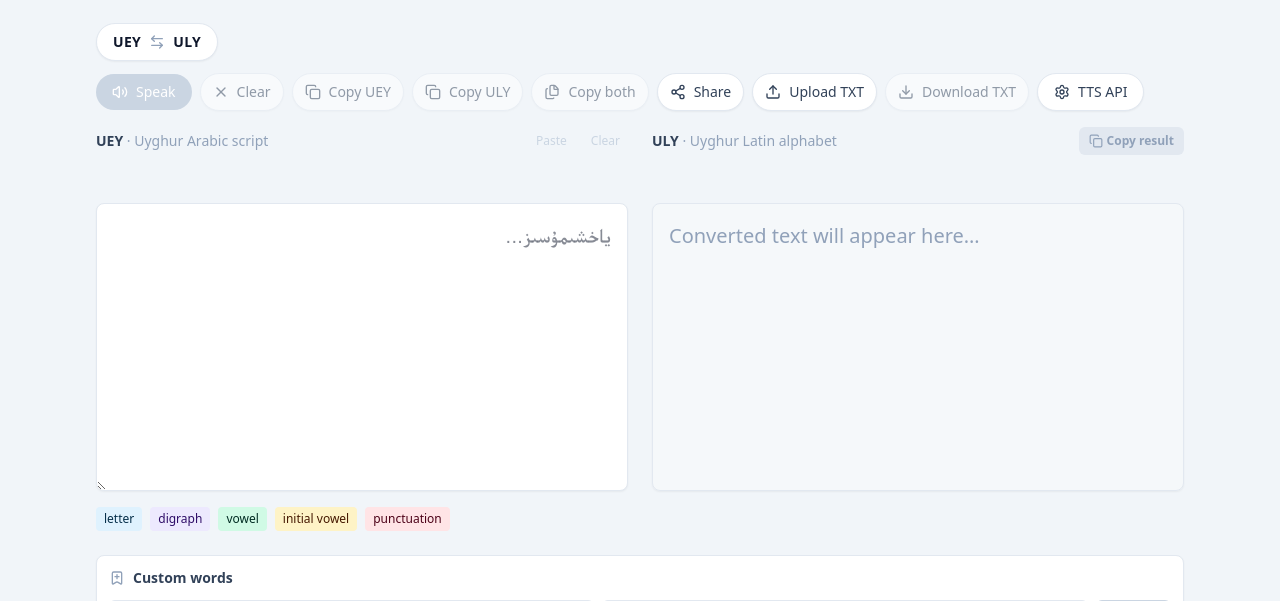
App conversion workflow › opens inline dictionary lookup from converted words
Type "سالام كىتاب" into the text box labelled "UEY · Uyghur Arabic script". click: [362, 347]
box: [96,203,628,491]
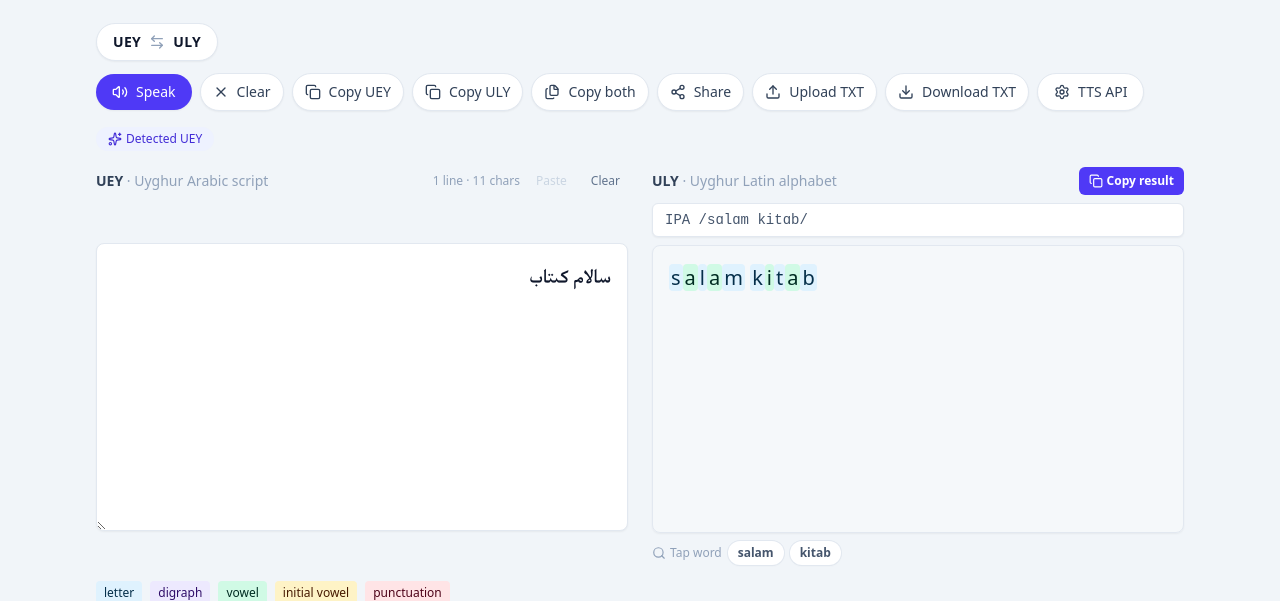
Click the button with aria-label "Look up salam in dictionary". click: [756, 553]
box: [728,541,784,565]
(page scrolled)
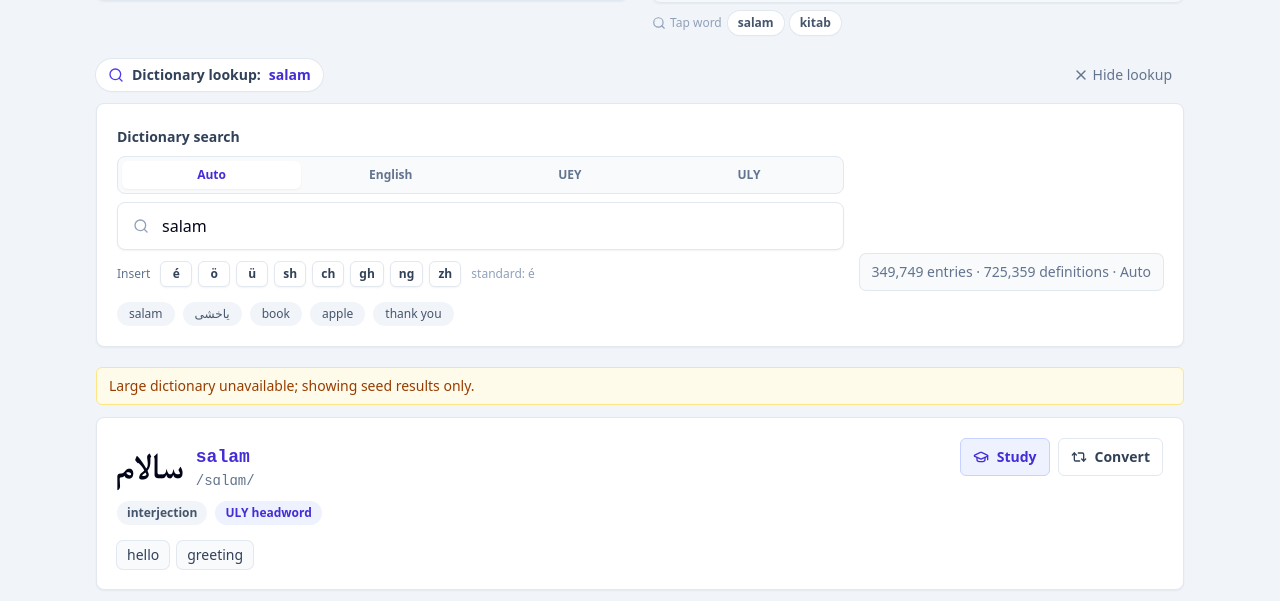
Check: the text "Dictionary lookup:" is shown, box [132,65,261,84]
Check: the dropdown labelled "Dictionary search" holds "salam", box [117,202,844,250]
